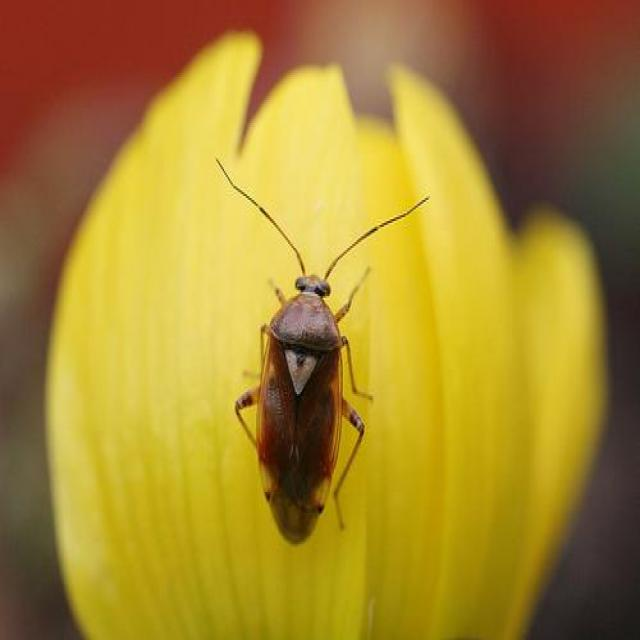Miridae-Adult-: (210, 146, 430, 548)
